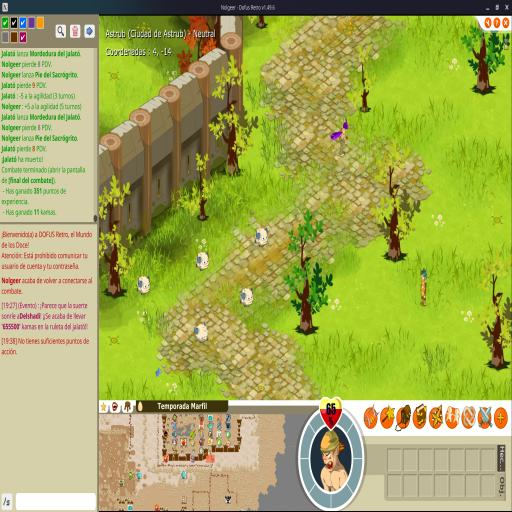Enemigos: (195, 251, 210, 272), (194, 323, 209, 343), (136, 275, 150, 296), (254, 227, 268, 248), (240, 288, 254, 308)
